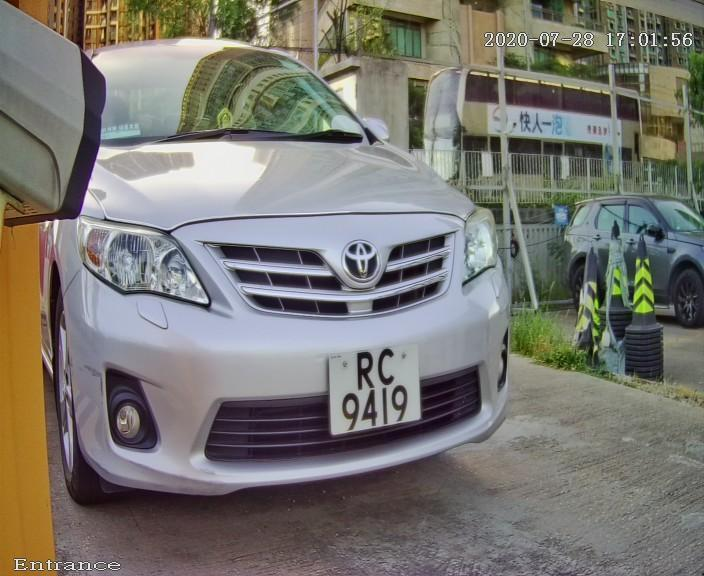privatecar: (23, 13, 595, 538)
